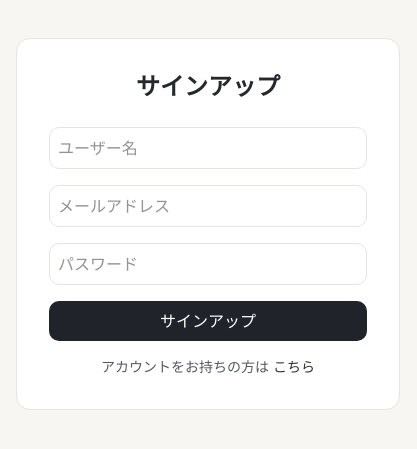
SignUpPage › パスワードが弱い場合にエラーが出る
The width and height of the screenshot is (417, 449).
Click the button: click(208, 321) [49,301,367,341]
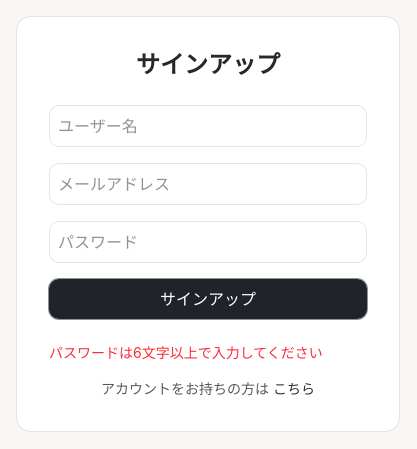
Expected: the text "パスワードは6文字以上で入力してください" is shown, [49,343,367,363]
